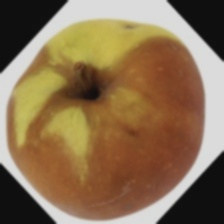apple: (14, 3, 208, 189)
